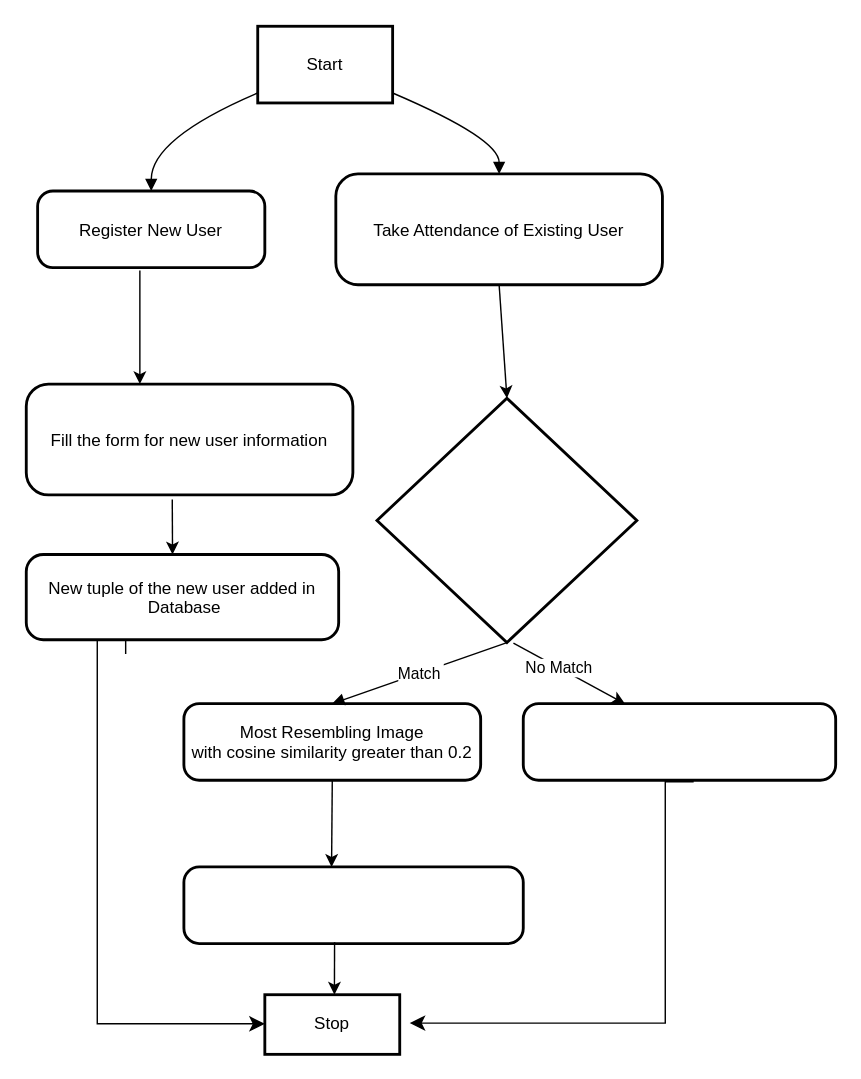
The diagram is 861 pixels wide and 1079 high, and some of its shapes have lost their labels. The shapes that lost their labels are listed below. From the top down, each one's centre as x and y in pixels, then its label:
At [506,519]: "Compare face embeddings generated from the facial region of images.".
At [678,741]: "User not registered if no image in database has cos. sim. greater than 0.2".
At [353,904]: "Increment the attendance count attribute of tuple corresponding to that user_id".
